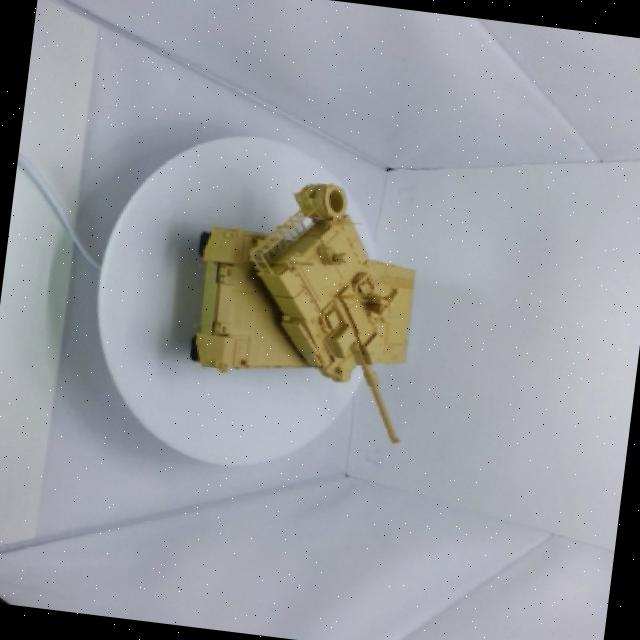korea tank: (146, 142, 478, 504)
